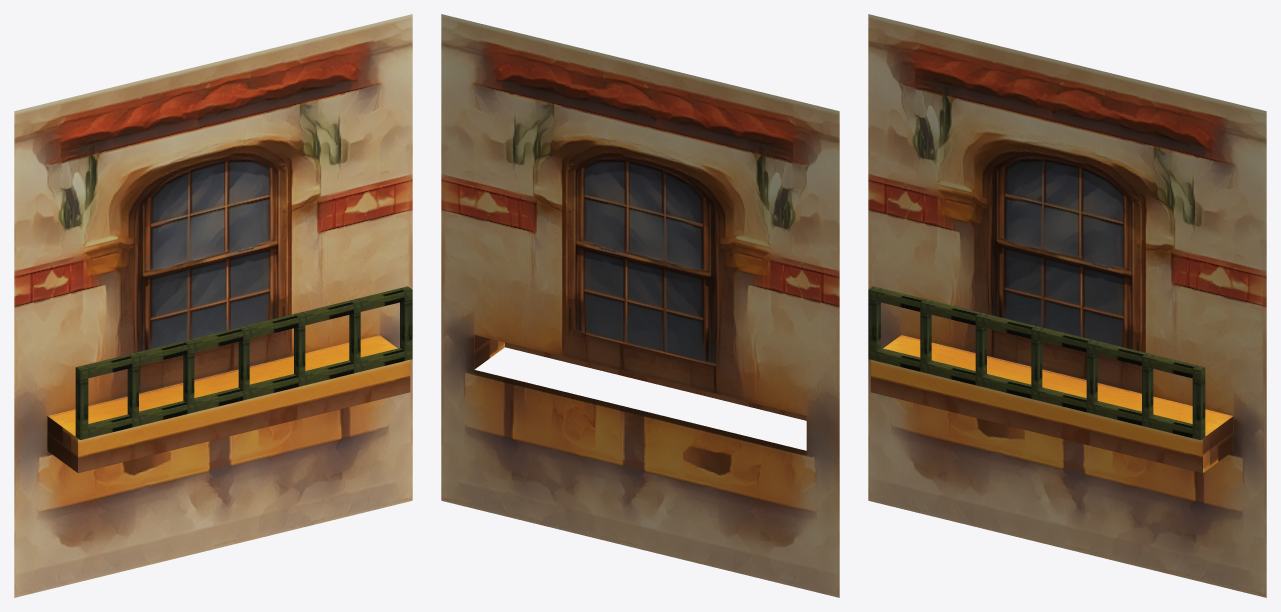
File: SPN_U_Bay3A.fbx
3 views of the same model, side by side, from view 1: azimuth 30°, elevation 25°; view 2: azimuth 150°, elevation 25°; view 3: azimuth 330°, elevation 25° (orthographic).
Visible parts, largest first — view 1: SPN_U_Bay3A; view 2: SPN_U_Bay3A; view 3: SPN_U_Bay3A.
Part boxes in pixels (x1=…): SPN_U_Bay3A: x1=14, y1=14, x2=412, y2=597; SPN_U_Bay3A: x1=441, y1=14, x2=839, y2=597; SPN_U_Bay3A: x1=868, y1=14, x2=1266, y2=597.
Size of the model in its own units: 3 by 0.43 by 3.5.
Materials: 1 (1 with a texture image).
